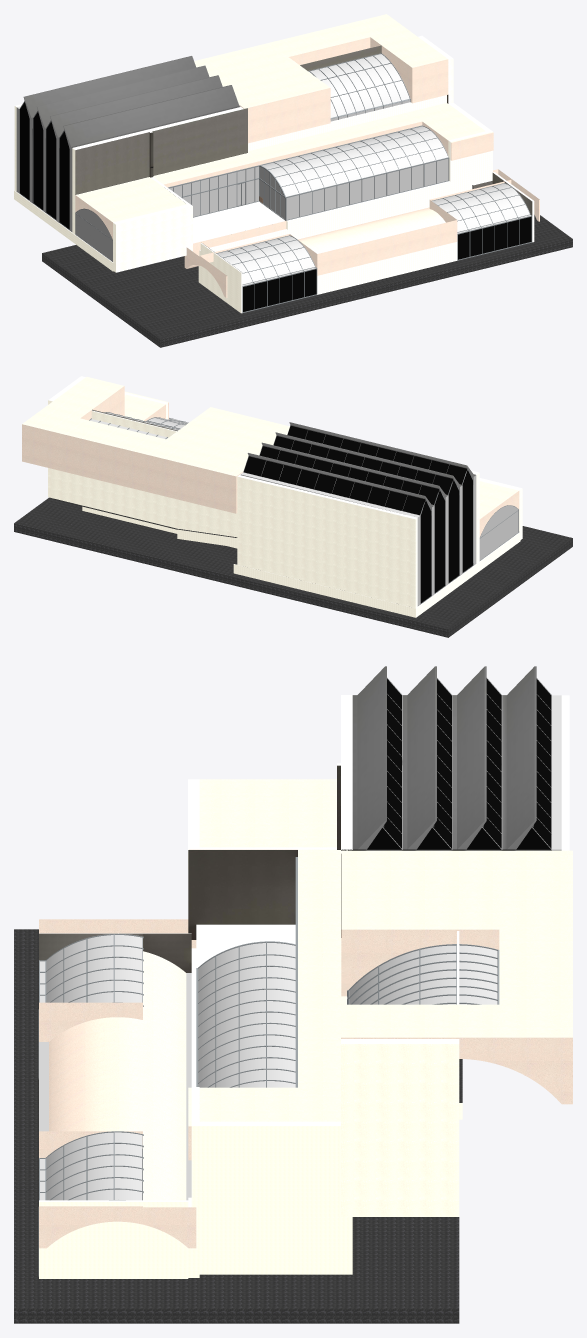
3 views of the same model, one above another, from view 1: azimuth 30°, elevation 25°; view 2: azimuth 150°, elevation 25°; view 3: azimuth 270°, elevation 25° (orthographic). The views are drawn at different scales.
Visible parts, largest first — view 1: 01_floor, Rectangle783, 组269, Rectangle791, Rectangle782, Line004.003, Arc051, Line004, Arc001, 对象003, Rectangle184, Arc002 (+18 smaller); view 2: Line004, Rectangle783, 01_floor, 组269, Rectangle184, Rectangle791, Line148, block_975_, block_945_, block_937_, block_974_, Line142 (+4 smaller); view 3: Rectangle783, 01_floor, 组269, Rectangle782, Line004, Rectangle791, 对象, Arc051, Line001, Line004.006, 对象002, Arc001 (+7 smaller).
Boxes of the visible parts, <box> form: 01_floor: <box>42,215,572,347</box>; Rectangle783: <box>194,14,448,143</box>; 组269: <box>19,56,240,148</box>; Rectangle791: <box>75,103,493,239</box>; Rectangle782: <box>184,169,539,297</box>; Line004.003: <box>75,108,247,194</box>; Arc051: <box>261,126,447,196</box>; Line004: <box>14,35,453,272</box>; Arc001: <box>309,54,409,117</box>; 对象003: <box>286,158,448,219</box>; Rectangle184: <box>14,190,284,271</box>; Arc002: <box>432,183,530,233</box>; Line004: <box>48,376,522,608</box>; Rectangle783: <box>22,377,289,513</box>; 01_floor: <box>14,497,572,637</box>; 组269: <box>243,422,475,515</box>; Rectangle184: <box>233,532,520,617</box>; Rectangle791: <box>124,391,519,537</box>; Line148: <box>479,505,518,560</box>; block_975_: <box>420,500,430,603</box>; block_945_: <box>448,480,458,582</box>; block_937_: <box>462,470,472,572</box>; block_974_: <box>434,490,444,592</box>; Line142: <box>240,472,420,606</box>; Rectangle783: <box>341,850,572,1104</box>; 01_floor: <box>14,929,459,1323</box>; 组269: <box>352,666,551,849</box>; Rectangle782: <box>39,919,196,1248</box>; Line004: <box>188,695,569,1216</box>; Rectangle791: <box>188,779,346,1160</box>; 对象: <box>191,1087,340,1216</box>; Arc051: <box>198,943,295,1087</box>; Line001: <box>188,948,352,1277</box>; Line004.006: <box>188,765,340,939</box>; 对象002: <box>39,933,191,1278</box>; Arc001: <box>349,945,497,1004</box>.
Size of what is drawn, in the model's own units: 79.24 by 27.34 by 49.41.
65 materials, 55 textured.
